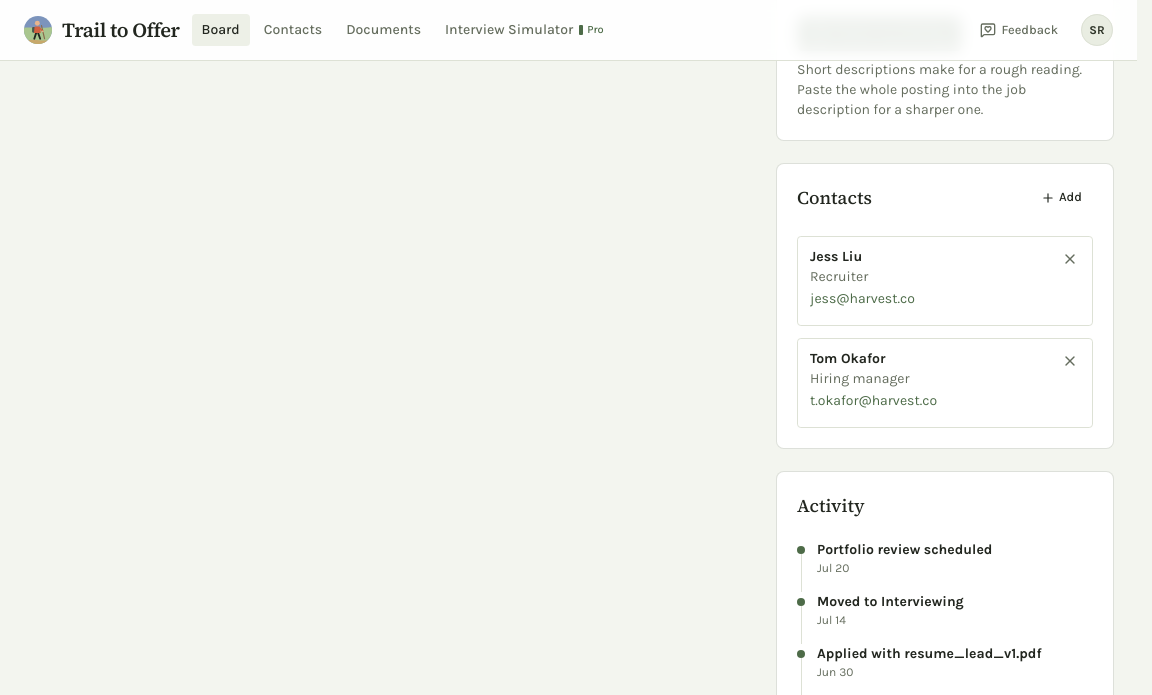
Test: the job page's Contacts card (ticket 14) › CON-J5: removing a contact from a job unlinks it and leaves the contact alone
(page scrolled)
Click the button named "Remove Tom Okafor from this job" at (1070, 361), box [1056,347,1084,375]
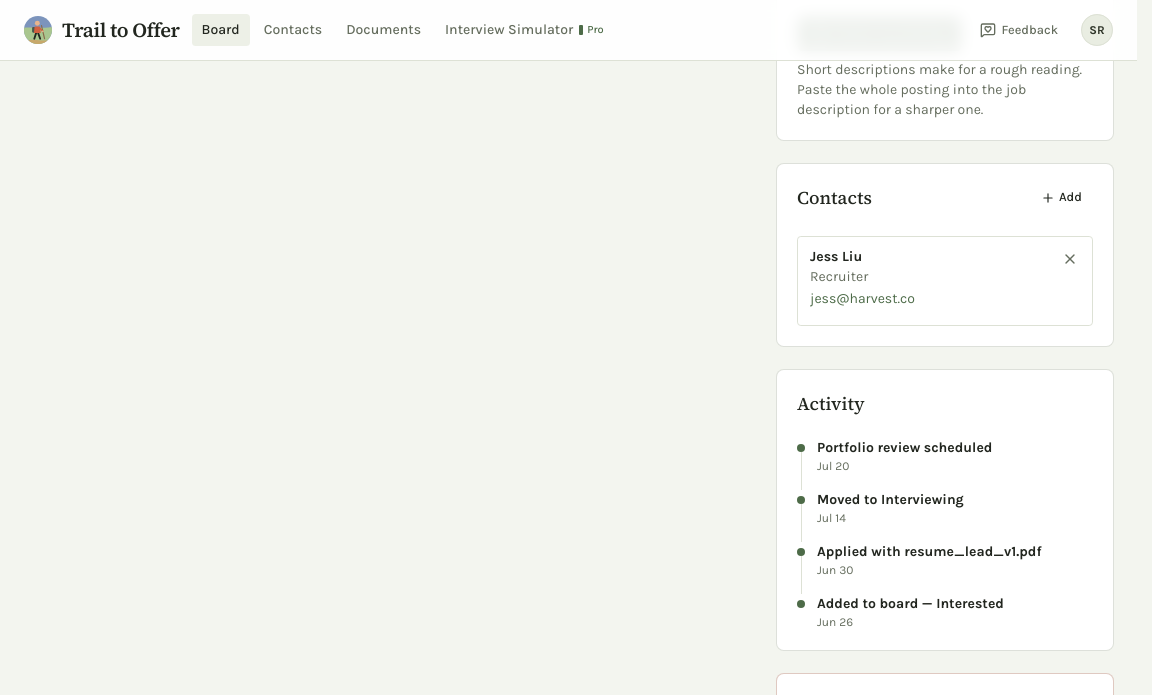
Result: the link "Tom Okafor" is gone
